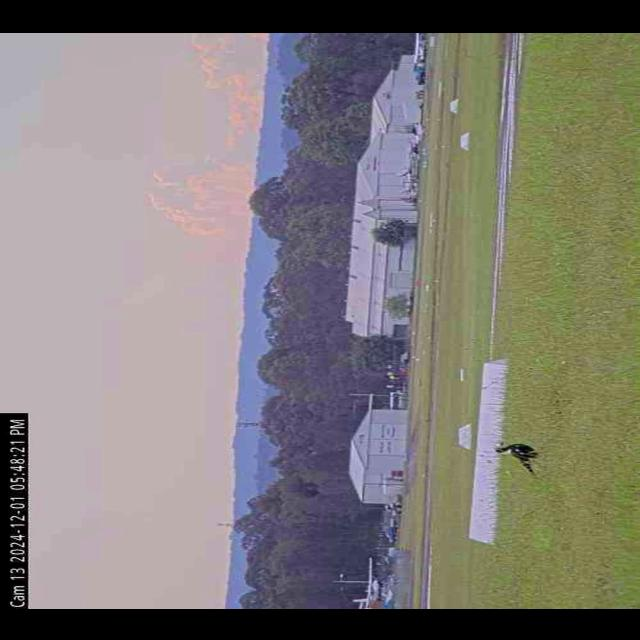Birds-Other: (492, 440, 544, 476)
